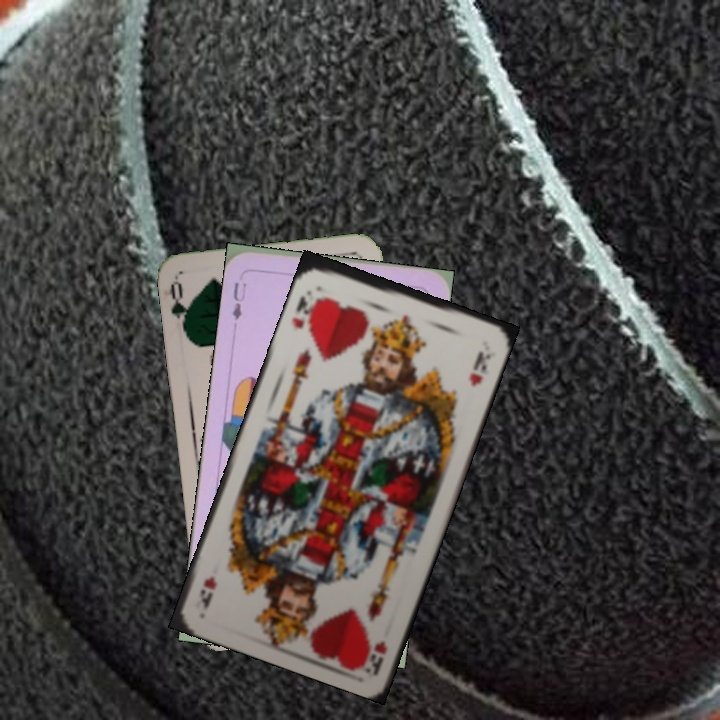EU: (228, 278, 250, 329)
GO: (166, 278, 194, 336)
HK: (288, 286, 323, 334), (360, 636, 390, 674)
